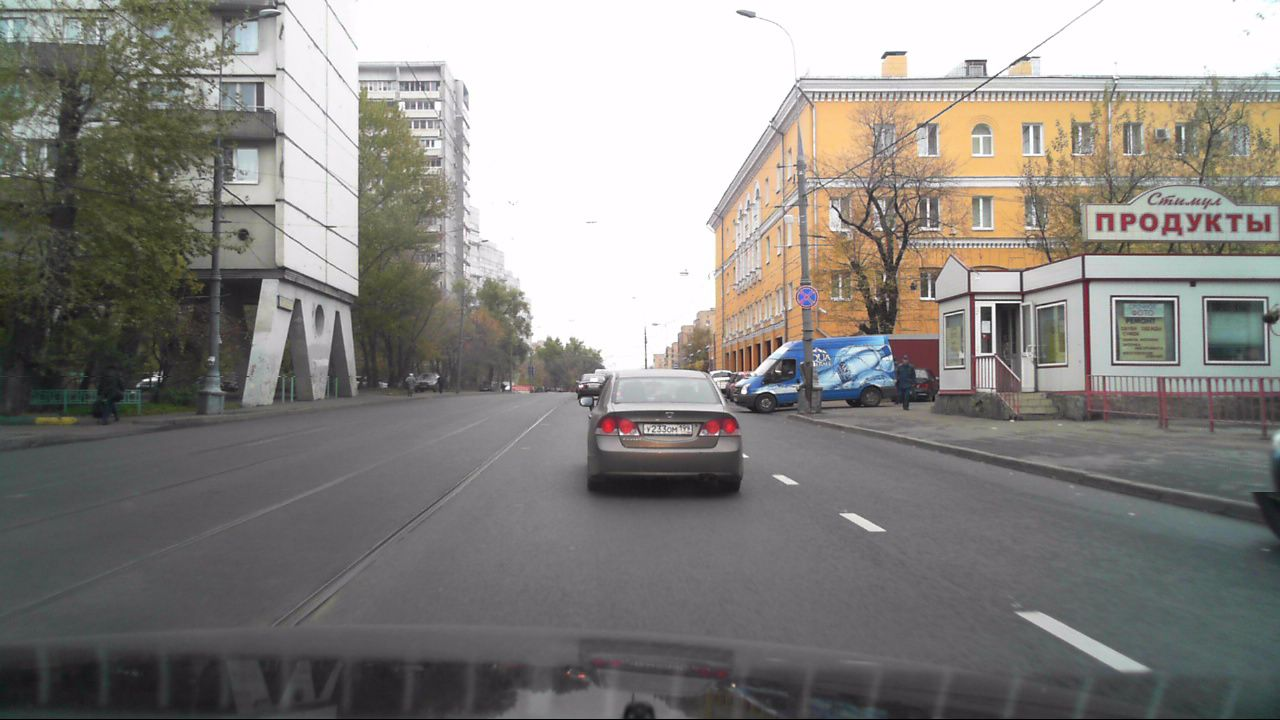No Parking: (796, 285, 817, 307)
